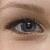eye: (22, 22, 35, 32)
